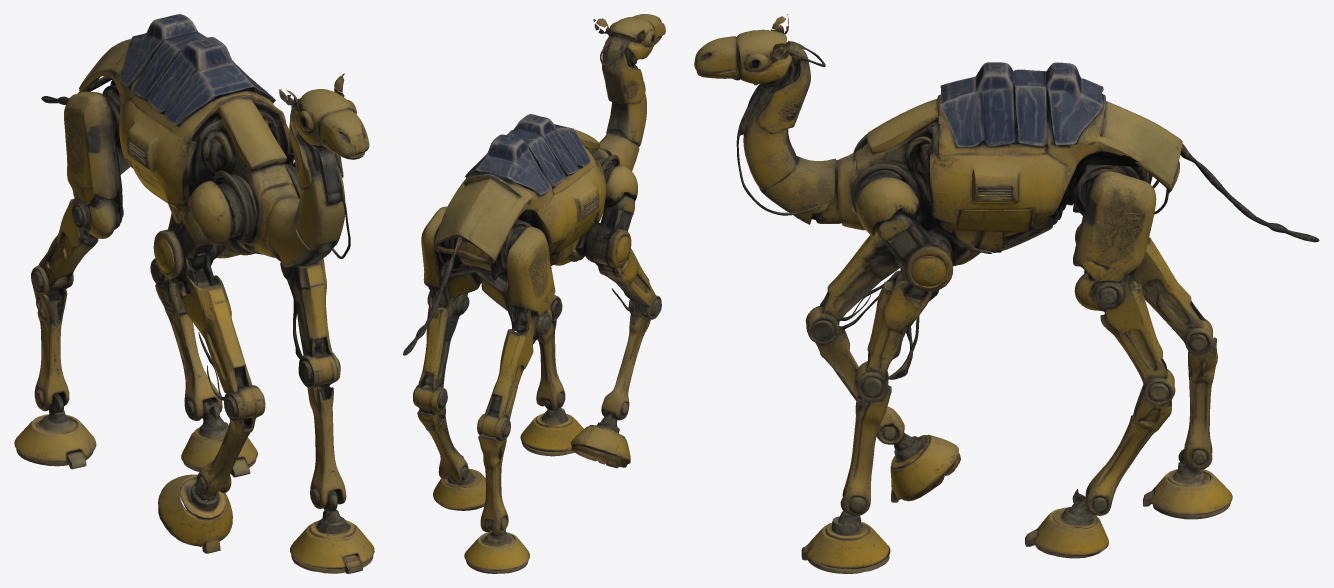
File: mecha_02.glb
3 views of the same model, side by side, from view 1: azimuth 30°, elevation 25°; view 2: azimuth 150°, elevation 25°; view 3: azimuth 270°, elevation 25° (orthographic). The views are drawn at different scales.
Visible parts, largest first — view 1: part_000_DORSAL_MODULE, part_002_FRONT_SHIN_L, part_005_HEAD_SENSOR, part_016_DORSAL_MODULE, part_004_HEAD_SENSOR, part_009_FRONT_PAW_R, part_007_FRONT_PAW_L, part_010_FRONT_PAW_R, part_015_REAR_PAW_L, part_006_FRONT_THIGH_R, part_014_REAR_PAW_R, part_011_REAR_PAW_L (+11 smaller); view 2: part_000_DORSAL_MODULE, part_001_AFT_REACTOR, part_002_FRONT_SHIN_L, part_005_HEAD_SENSOR, part_016_DORSAL_MODULE, part_008_REAR_THIGH_L, part_004_HEAD_SENSOR, part_015_REAR_PAW_L, part_010_FRONT_PAW_R, part_011_REAR_PAW_L, part_007_FRONT_PAW_L, part_009_FRONT_PAW_R (+7 smaller); view 3: part_000_DORSAL_MODULE, part_001_AFT_REACTOR, part_005_HEAD_SENSOR, part_002_FRONT_SHIN_L, part_004_HEAD_SENSOR, part_006_FRONT_THIGH_R, part_009_FRONT_PAW_R, part_010_FRONT_PAW_R, part_008_REAR_THIGH_L, part_015_REAR_PAW_L, part_007_FRONT_PAW_L, part_014_REAR_PAW_R (+10 smaller).
Part boxes in pixels (x1,y1,x2,y2): part_000_DORSAL_MODULE: (41,14,293,237); part_002_FRONT_SHIN_L: (153,211,265,500); part_005_HEAD_SENSOR: (266,111,350,267); part_016_DORSAL_MODULE: (64,91,119,204); part_004_HEAD_SENSOR: (279,73,369,159); part_009_FRONT_PAW_R: (298,350,346,508); part_007_FRONT_PAW_L: (158,474,232,553); part_010_FRONT_PAW_R: (290,490,374,573); part_015_REAR_PAW_L: (14,393,96,469); part_006_FRONT_THIGH_R: (280,258,332,358); part_014_REAR_PAW_R: (155,278,222,420); part_011_REAR_PAW_L: (33,286,69,411); part_000_DORSAL_MODULE: (403,114,606,355); part_001_AFT_REACTOR: (413,206,522,411); part_002_FRONT_SHIN_L: (584,194,661,420); part_005_HEAD_SENSOR: (599,50,646,170); part_016_DORSAL_MODULE: (506,226,555,316); part_008_REAR_THIGH_L: (477,309,533,440); part_004_HEAD_SENSOR: (593,14,665,80); part_015_REAR_PAW_L: (464,520,529,573); part_010_FRONT_PAW_R: (520,399,583,456); part_011_REAR_PAW_L: (477,425,508,534); part_007_FRONT_PAW_L: (570,413,630,468); part_009_FRONT_PAW_R: (536,295,565,409); part_000_DORSAL_MODULE: (856,62,1319,252); part_001_AFT_REACTOR: (1073,171,1175,404); part_005_HEAD_SENSOR: (736,61,836,224); part_002_FRONT_SHIN_L: (805,228,931,451); part_004_HEAD_SENSOR: (694,14,825,86); part_006_FRONT_THIGH_R: (866,254,938,380); part_009_FRONT_PAW_R: (842,361,891,515); part_010_FRONT_PAW_R: (801,497,890,573); part_008_REAR_THIGH_L: (1134,237,1213,354); part_015_REAR_PAW_L: (1143,448,1232,519); part_007_FRONT_PAW_L: (890,433,960,502); part_014_REAR_PAW_R: (1085,383,1171,515).
Bounding box in the file's own units: 0.3182 × 0.8881 × 0.9996.
Materials: 34 (34 with a texture image).
